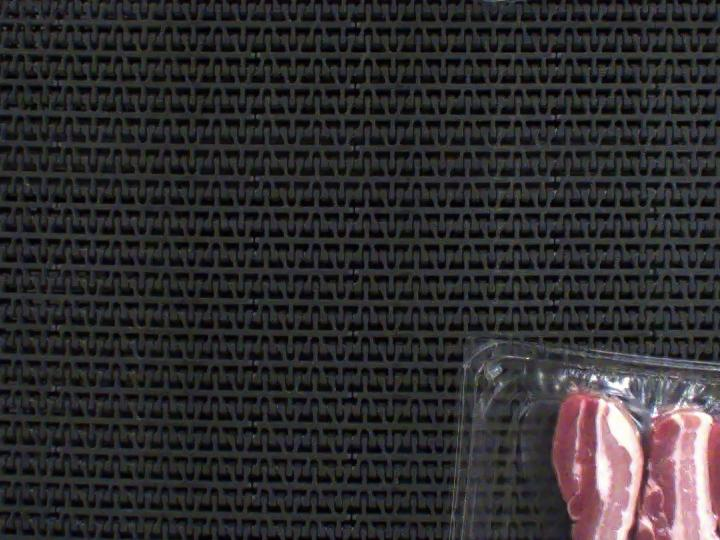unsealed: (518, 348, 720, 511)
